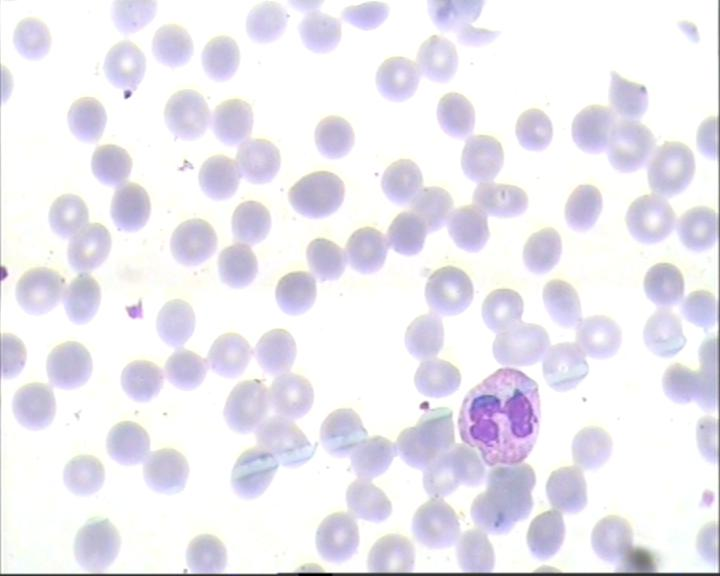neut: (458, 364, 546, 467)
